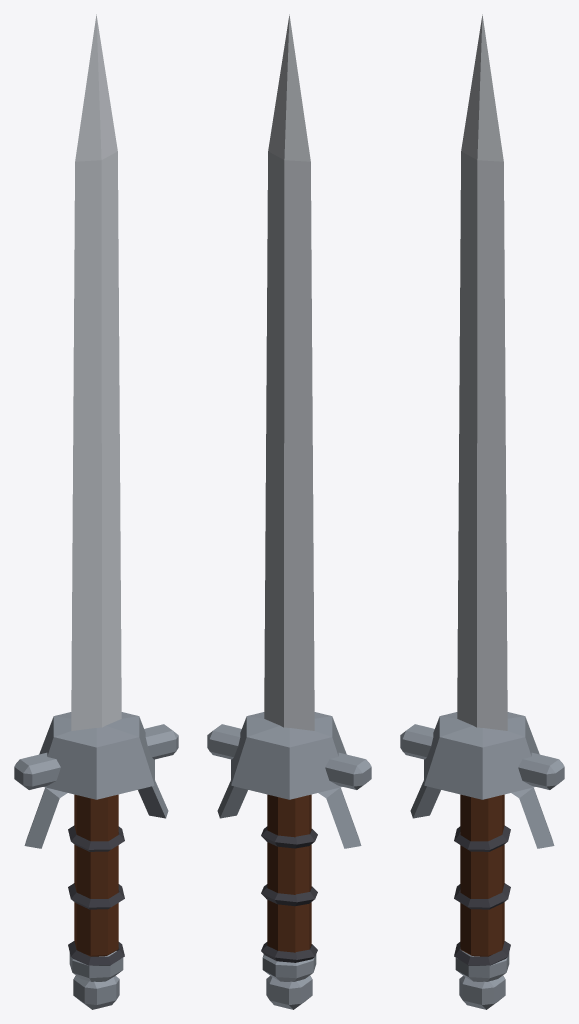
File: IronRapier.fbx
The picture shows the model from 3 angles, left to right: view 1: azimuth 30°, elevation 25°; view 2: azimuth 150°, elevation 25°; view 3: azimuth 330°, elevation 25°; orthographic projection.
Parts seen in each view (by area): view 1: IronRapier; view 2: IronRapier; view 3: IronRapier.
Part boxes in pixels (box(x1,y1,x2,y2)): IronRapier: box(14, 14, 178, 1009); IronRapier: box(207, 14, 371, 1009); IronRapier: box(400, 14, 564, 1009).
Size of the model in its own units: 0.8 by 4.86 by 0.5196.
1 material, 1 textured.
